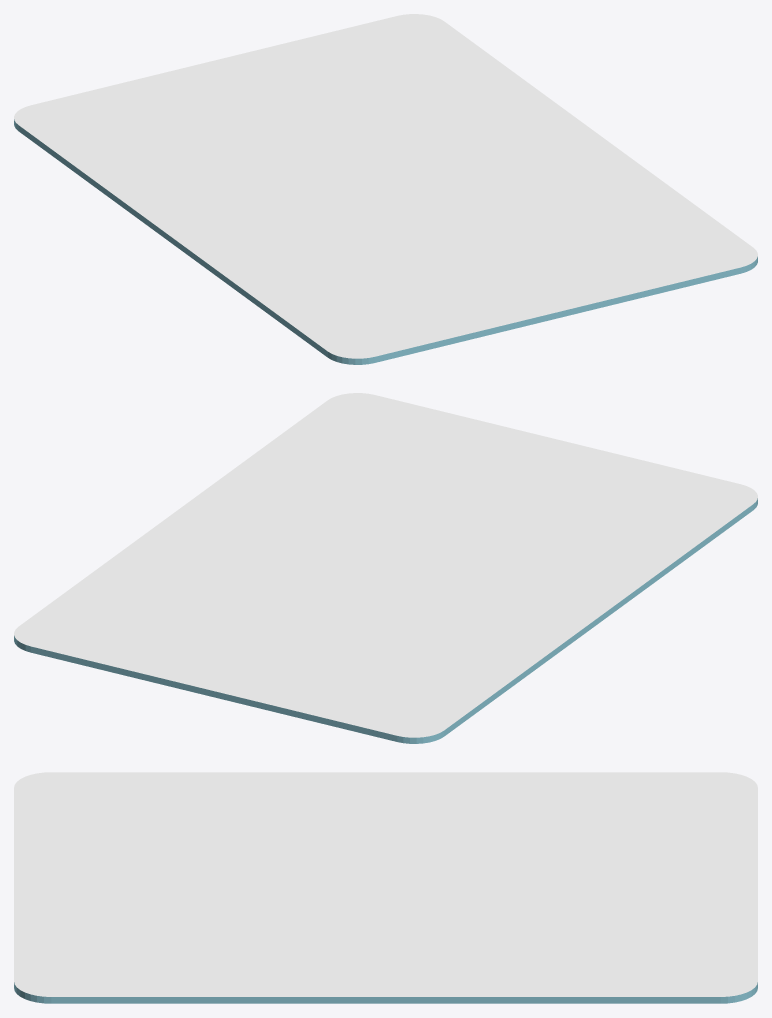
The model's file is card_shatter_04.glb.
The picture shows the model from 3 angles, top to bottom: view 1: azimuth 30°, elevation 25°; view 2: azimuth 150°, elevation 25°; view 3: azimuth 270°, elevation 25°; orthographic projection. The views are drawn at different scales.
Parts seen in each view (by area): view 1: V04_CardPiece_01, V04_CardPiece_06, V04_CardPiece_04, V04_CardPiece_05, V04_CardPiece_10, V04_CardPiece_09, V04_CardPiece_02, V04_CardPiece_03, V04_CardPiece_08, V04_CardPiece_07; view 2: V04_CardPiece_06, V04_CardPiece_01, V04_CardPiece_09, V04_CardPiece_04, V04_CardPiece_05, V04_CardPiece_10, V04_CardPiece_02, V04_CardPiece_08, V04_CardPiece_03, V04_CardPiece_07; view 3: V04_CardPiece_10, V04_CardPiece_05, V04_CardPiece_06, V04_CardPiece_01, V04_CardPiece_04, V04_CardPiece_09, V04_CardPiece_02, V04_CardPiece_03, V04_CardPiece_08, V04_CardPiece_07.
Part boxes in pixels (x1=…): V04_CardPiece_01: x1=209, y1=265, x2=512, y2=364; V04_CardPiece_06: x1=14, y1=78, x2=224, y2=243; V04_CardPiece_04: x1=459, y1=209, x2=727, y2=329; V04_CardPiece_05: x1=508, y1=144, x2=757, y2=276; V04_CardPiece_10: x1=427, y1=18, x2=611, y2=167; V04_CardPiece_09: x1=239, y1=14, x2=436, y2=156; V04_CardPiece_02: x1=173, y1=193, x2=456, y2=281; V04_CardPiece_03: x1=336, y1=162, x2=527, y2=281; V04_CardPiece_08: x1=141, y1=54, x2=429, y2=176; V04_CardPiece_07: x1=144, y1=81, x2=366, y2=215; V04_CardPiece_06: x1=287, y1=609, x2=598, y2=743; V04_CardPiece_01: x1=545, y1=450, x2=757, y2=596; V04_CardPiece_09: x1=14, y1=565, x2=305, y2=690; V04_CardPiece_04: x1=361, y1=398, x2=602, y2=502; V04_CardPiece_05: x1=186, y1=393, x2=387, y2=529; V04_CardPiece_10: x1=15, y1=504, x2=314, y2=630; V04_CardPiece_02: x1=424, y1=492, x2=635, y2=623; V04_CardPiece_08: x1=189, y1=561, x2=375, y2=715; V04_CardPiece_03: x1=286, y1=491, x2=545, y2=580; V04_CardPiece_07: x1=292, y1=577, x2=524, y2=705; V04_CardPiece_10: x1=358, y1=915, x2=732, y2=1003; V04_CardPiece_05: x1=14, y1=928, x2=361, y2=1003; V04_CardPiece_06: x1=386, y1=772, x2=757, y2=845; V04_CardPiece_01: x1=14, y1=772, x2=306, y2=861; V04_CardPiece_04: x1=14, y1=860, x2=258, y2=973; V04_CardPiece_09: x1=429, y1=897, x2=757, y2=1002; V04_CardPiece_02: x1=137, y1=772, x2=408, y2=861; V04_CardPiece_03: x1=135, y1=861, x2=416, y2=943; V04_CardPiece_08: x1=414, y1=845, x2=757, y2=916; V04_CardPiece_07: x1=399, y1=805, x2=748, y2=881.
Size of the model in its own units: 0.429 by 0.006 by 0.6.
